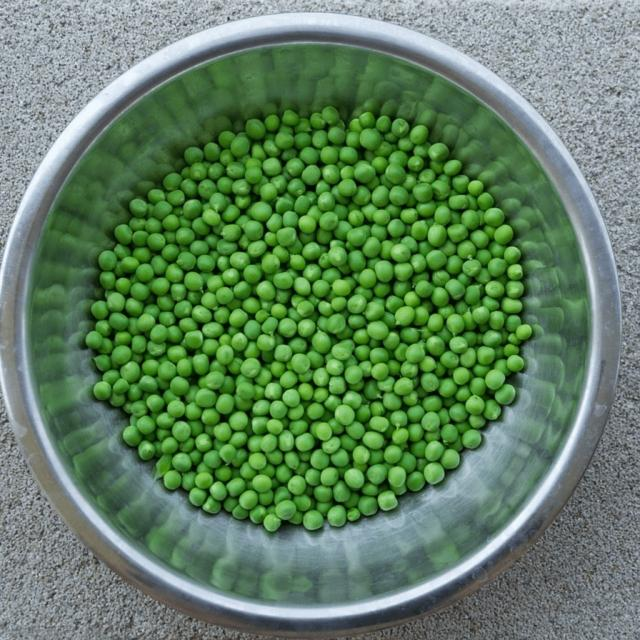Peas: (83, 98, 537, 531)
